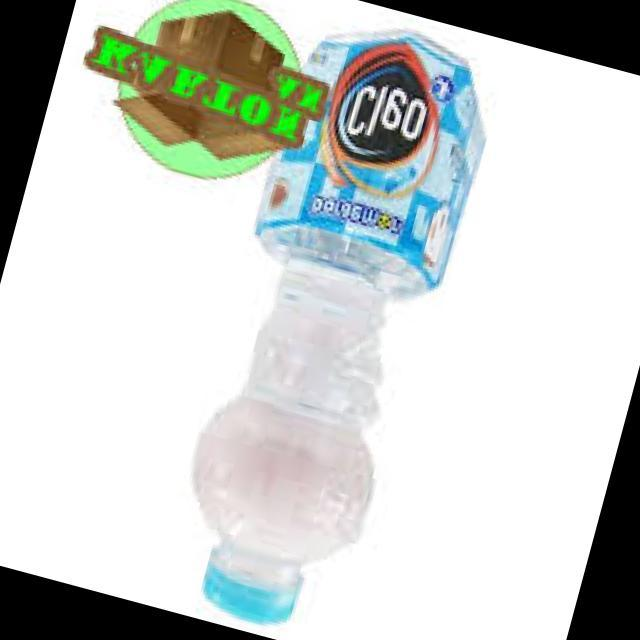good: (117, 0, 532, 640)
